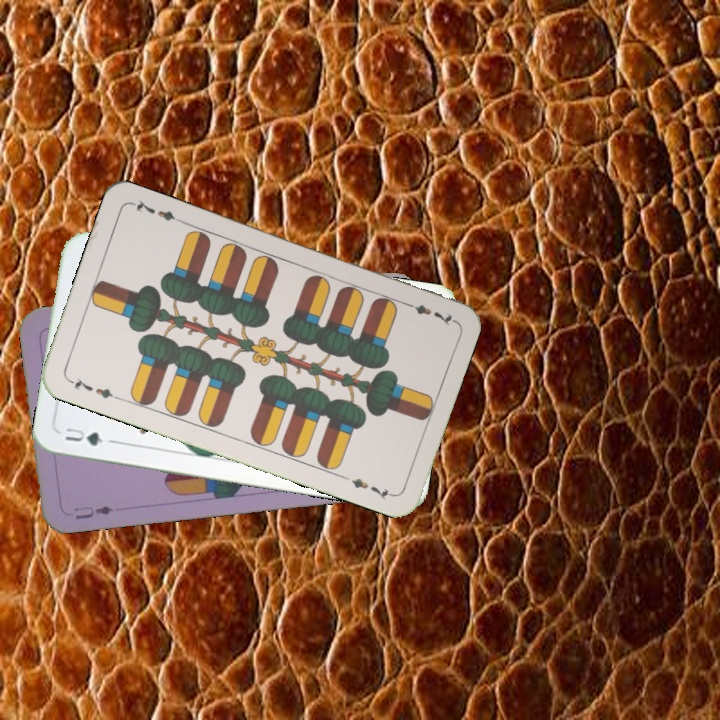E7: (399, 297, 457, 329), (64, 374, 122, 403)
EU: (69, 501, 116, 522)
GU: (61, 423, 106, 449)
